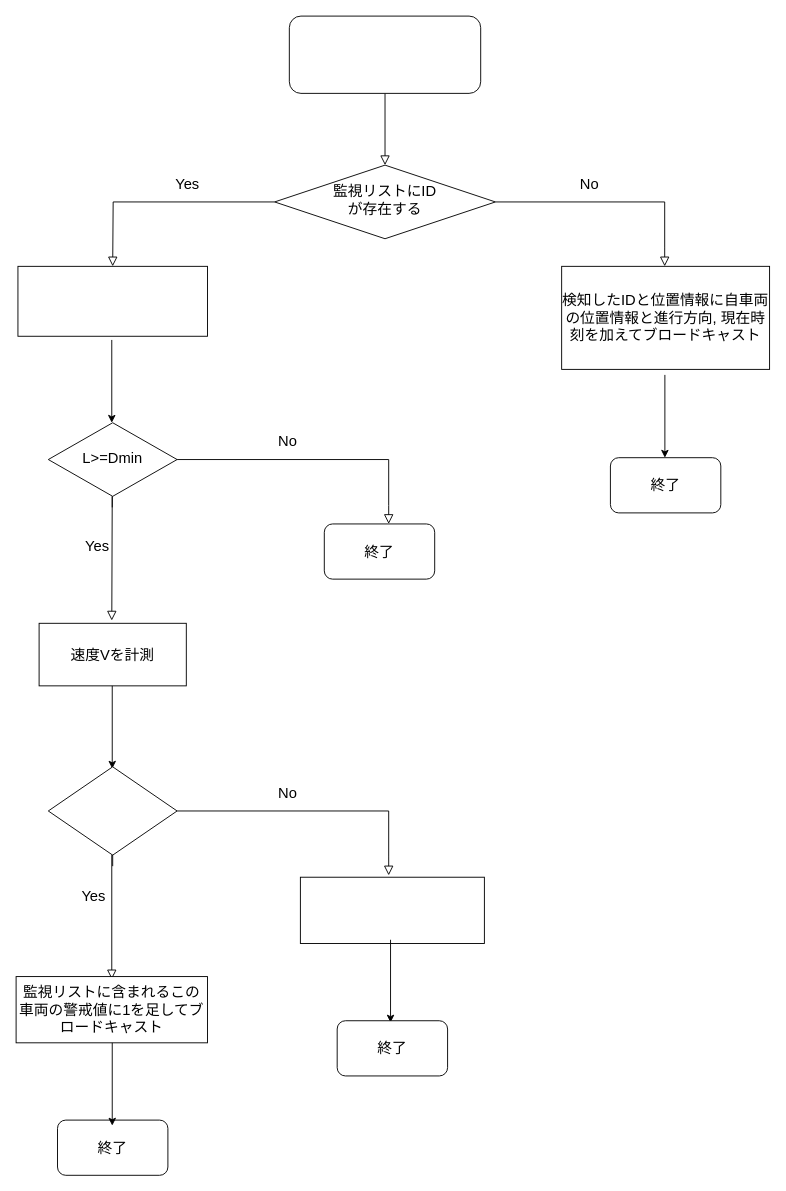
The diagram is 786 pixels wide and 1191 high, and some of its shapes have lost their labels. Here are the shapes that lost their labels. From the top down, the box of each, then its label:
(288, 15, 481, 93): 追い越し車両のIDと 位置情報を検知
(17, 265, 207, 336): 監視リストに含まれる対象IDの位置情報と現在取得した位置情報の距離Lを計測
(47, 766, 177, 855): V>=Vmin
(299, 876, 484, 943): 監視リストに含まれる取得したIDの車両データを削除
